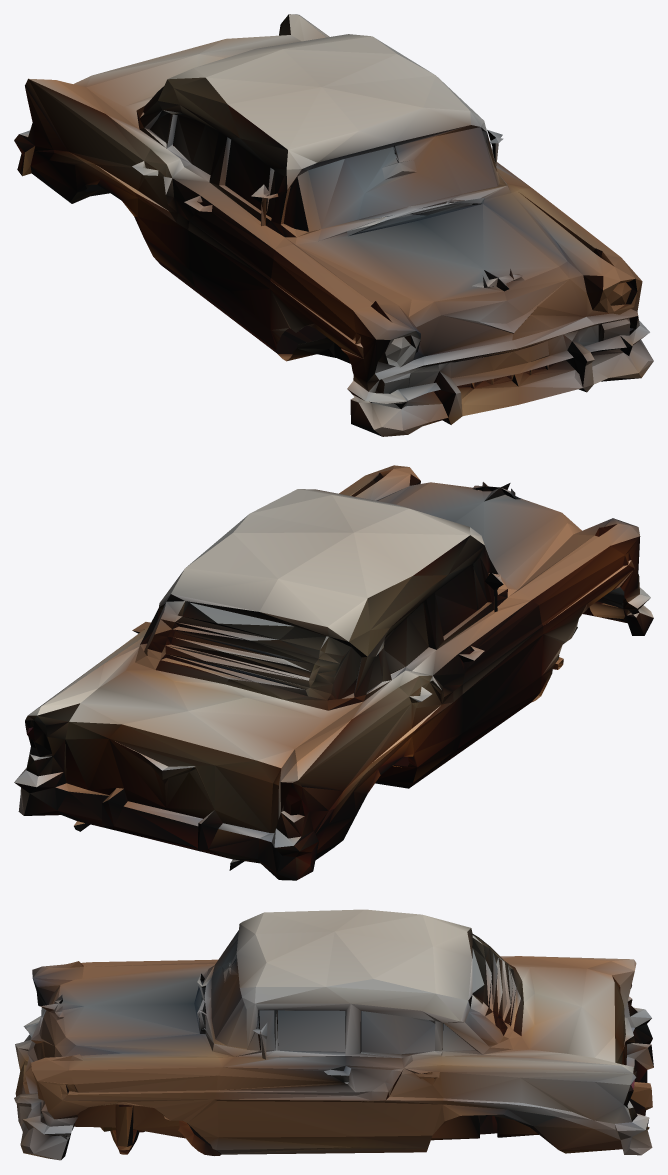
File: chevrolet_bel_air_1956.glb
3 renders of one model, top to bottom at view 1: azimuth 30°, elevation 25°; view 2: azimuth 150°, elevation 25°; view 3: azimuth 270°, elevation 25°, orthographic. The views are drawn at different scales.
Parts seen in each view (by area): view 1: Wreck_chevrolet_bel_air_1956; view 2: Wreck_chevrolet_bel_air_1956; view 3: Wreck_chevrolet_bel_air_1956.
Part boxes in pixels (x1,y1,x2,y2): Wreck_chevrolet_bel_air_1956: (14,14,653,436); Wreck_chevrolet_bel_air_1956: (14,465,653,880); Wreck_chevrolet_bel_air_1956: (14,909,653,1160).
Size of the model in its own units: 2.29 by 1.54 by 5.04.
